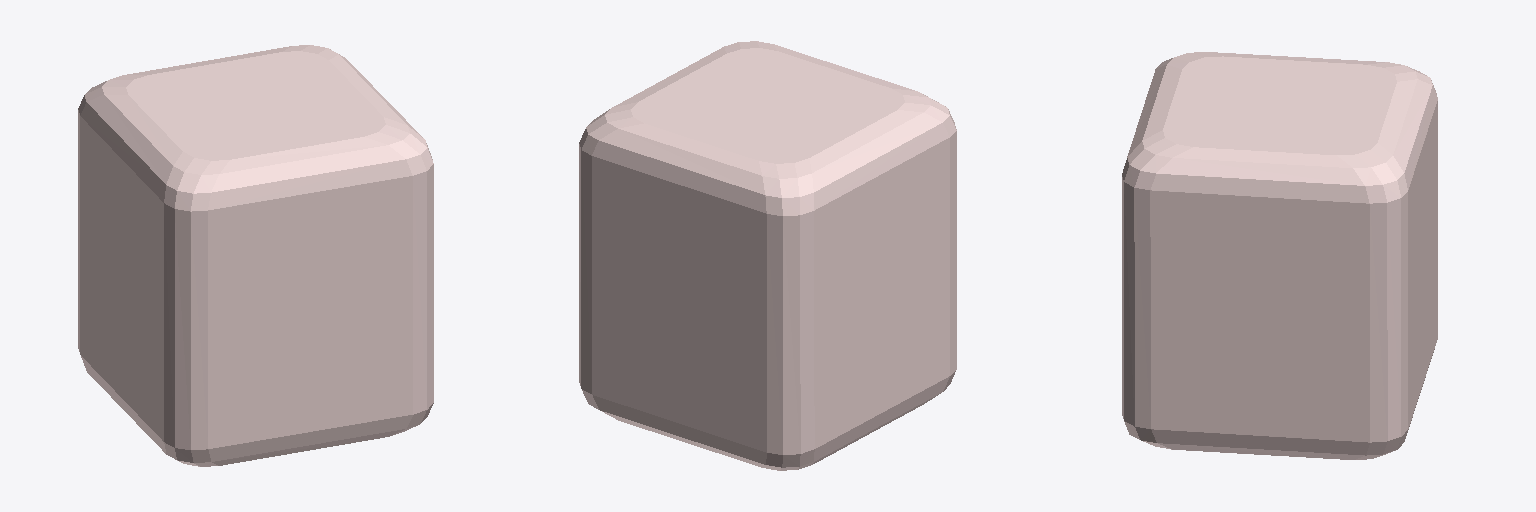
3 views of the same model, side by side, from view 1: azimuth 30°, elevation 25°; view 2: azimuth 150°, elevation 25°; view 3: azimuth 270°, elevation 25° (orthographic).
Visible parts, largest first — view 1: polySurface9polySurface6; view 2: polySurface9polySurface6; view 3: polySurface9polySurface6.
Boxes of the visible parts, x1=… form: polySurface9polySurface6: x1=78, y1=45, x2=433, y2=466; polySurface9polySurface6: x1=579, y1=41, x2=956, y2=470; polySurface9polySurface6: x1=1122, y1=52, x2=1437, y2=459.
Size of the model in its own units: 0.2924 by 0.306 by 0.2924.
Materials: 1 (1 with a texture image).